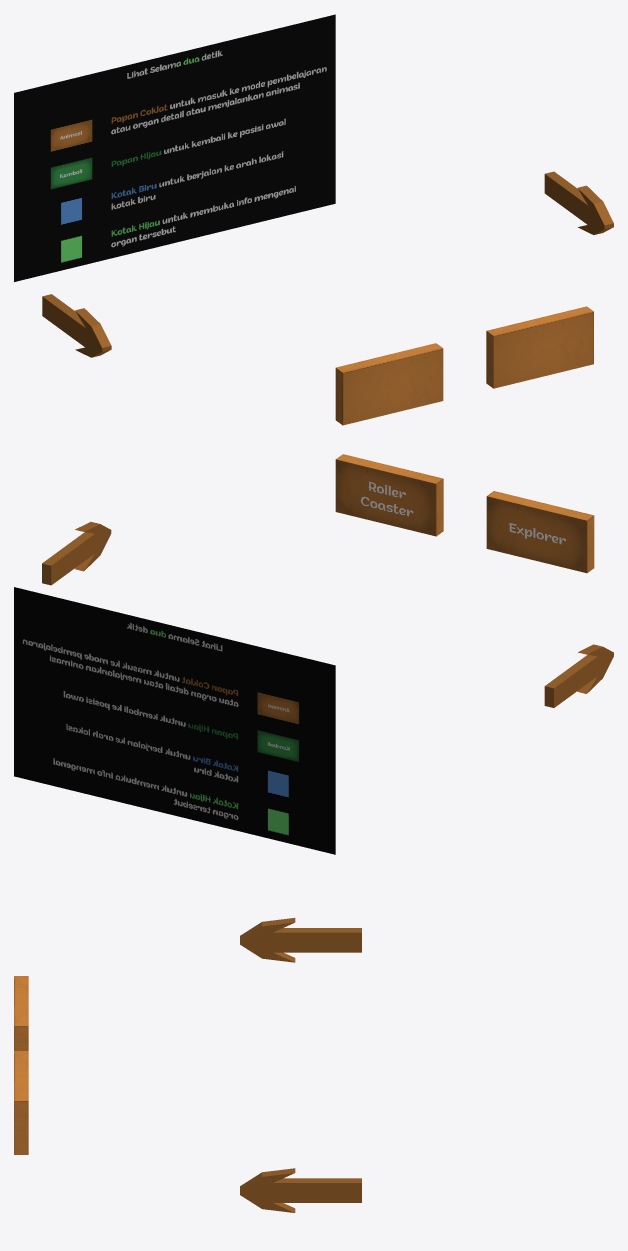
The model's file is MainMenu.fbx.
3 views of the same model, one above another, from view 1: azimuth 30°, elevation 25°; view 2: azimuth 150°, elevation 25°; view 3: azimuth 270°, elevation 25° (orthographic). The views are drawn at different scales.
Visible parts, largest first — view 1: Plane, Papan.Explorer, Papan.RollerCoaster, Panah1, Panah2; view 2: Plane, Papan.Explorer, Papan.RollerCoaster, Panah2, Panah1; view 3: Panah2, Panah1, Papan.RollerCoaster, Papan.Explorer.
Part boxes in pixels (x1,y1,x2,y2): Plane: (14, 14, 335, 281); Papan.Explorer: (335, 343, 443, 425); Papan.RollerCoaster: (486, 306, 593, 388); Panah1: (544, 171, 613, 234); Panah2: (42, 294, 111, 357); Plane: (14, 587, 335, 854); Papan.Explorer: (486, 491, 594, 573); Papan.RollerCoaster: (335, 454, 443, 536); Panah2: (544, 644, 613, 707); Panah1: (42, 522, 111, 585); Panah2: (240, 918, 361, 962); Panah1: (240, 1168, 361, 1212); Papan.RollerCoaster: (14, 1051, 28, 1154); Papan.Explorer: (14, 976, 28, 1050).
Bounding box in the file's own units: 1019 × 360 × 1013.
